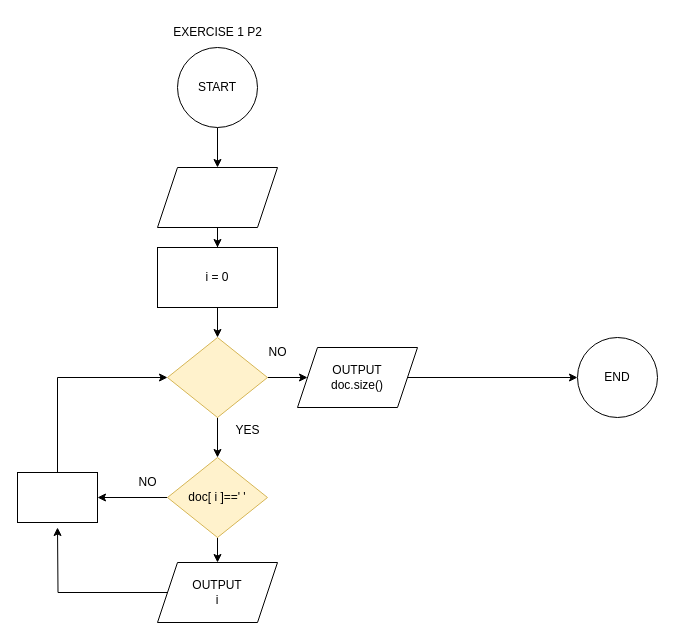
The diagram is 675 pixels wide and 640 high, and some of its shapes have lost their labels. The shapes that lost their labels are listed below. From the top down, each one's centre as x and y in pixels, then its label:
the point at 217,197: INPUT doc
the point at 217,377: i <= doc.size()
the point at 57,497: ++i
